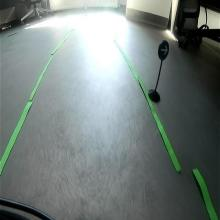right: (156, 39, 170, 60)
